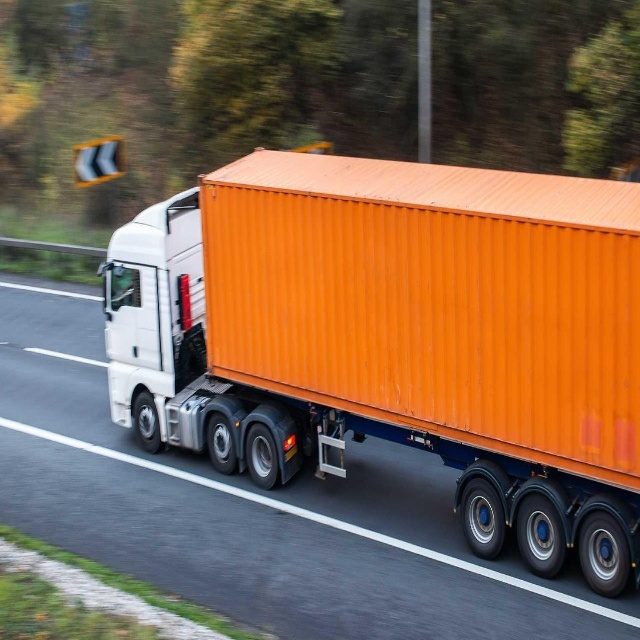Truck: (94, 146, 640, 600)
